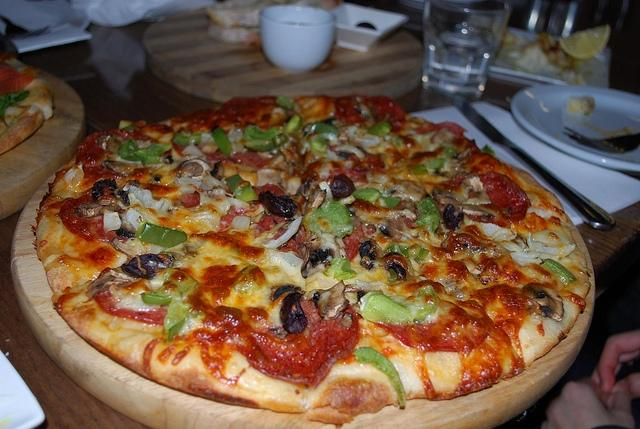bell pepper: (353, 284, 442, 325), (352, 346, 407, 408), (303, 201, 354, 239), (136, 220, 186, 248), (540, 258, 576, 288), (414, 197, 441, 233), (164, 298, 192, 330), (226, 174, 258, 202), (324, 258, 356, 280), (242, 124, 279, 140), (212, 126, 232, 154), (172, 130, 202, 147), (352, 188, 382, 204), (140, 291, 172, 305), (244, 138, 275, 152), (311, 121, 338, 136), (368, 121, 392, 137), (308, 136, 328, 154), (284, 114, 302, 133), (276, 95, 296, 110), (378, 196, 401, 208), (427, 157, 448, 170), (408, 164, 428, 175), (414, 248, 430, 261), (142, 156, 160, 166), (440, 146, 455, 158), (122, 123, 140, 132), (483, 144, 495, 157), (384, 242, 395, 253)
